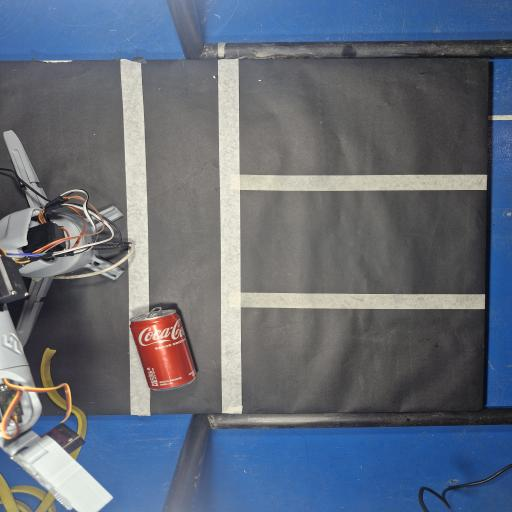lata: (130, 308, 195, 390)
